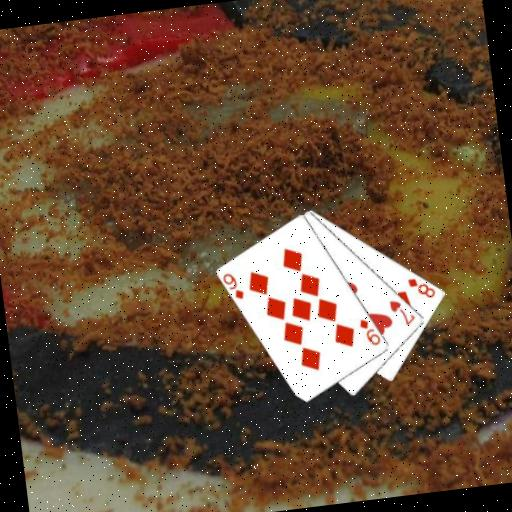7H: (386, 294, 418, 329)
8D: (404, 273, 438, 302)
9D: (356, 314, 383, 349), (220, 268, 247, 303)
